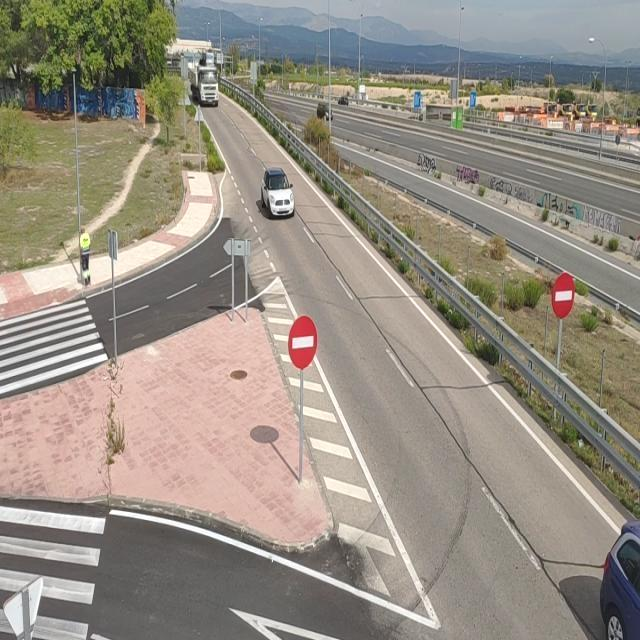Car: (596, 505, 640, 639), (248, 170, 304, 227)
Truck: (189, 51, 231, 112)
